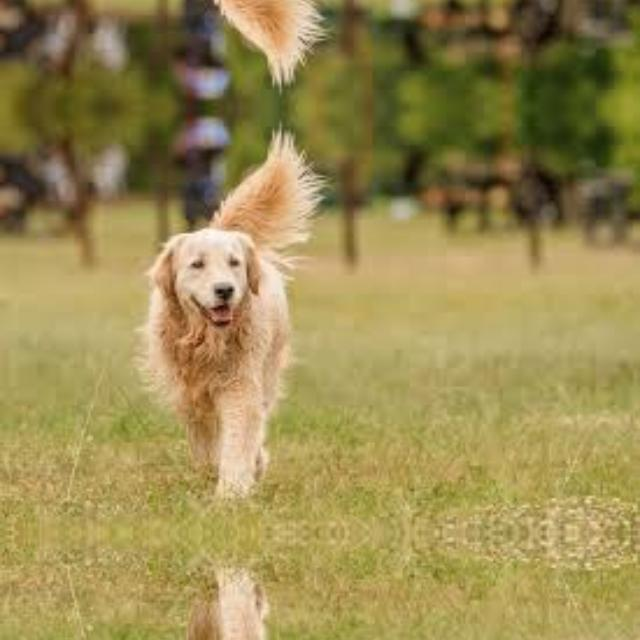dog: (126, 122, 320, 494), (126, 0, 319, 91), (126, 571, 319, 640)
